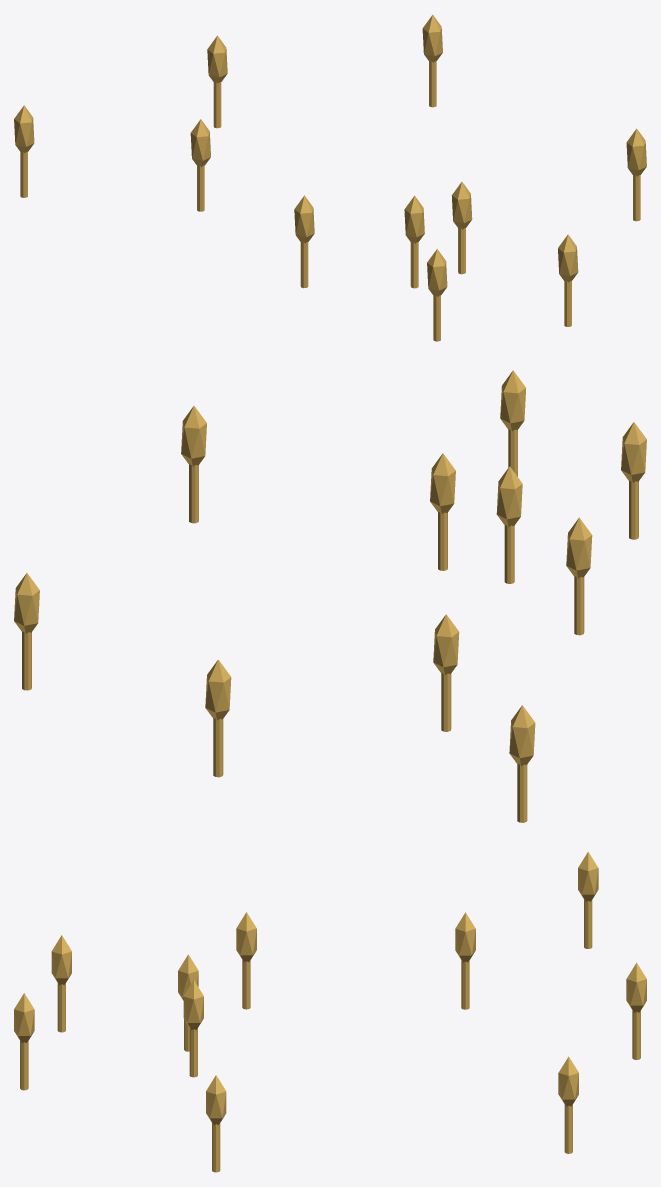
The model's file is barleyMeadow.glb.
3 renders of one model, top to bottom at view 1: azimuth 30°, elevation 25°; view 2: azimuth 150°, elevation 25°; view 3: azimuth 270°, elevation 25°, orthographic. The views are drawn at different scales.
Visible parts, largest first — view 1: Icosphere.016, Icosphere.018, Icosphere.019, Icosphere.017, Icosphere.021, Icosphere.022, Icosphere.014, Icosphere.020, Icosphere.015, Icosphere.023; view 2: Icosphere.021, Icosphere.016, Icosphere.022, Icosphere.014, Icosphere.015, Icosphere.018, Icosphere.019, Icosphere.020, Icosphere.023, Icosphere.017, Cone.004, Cone.008 (+3 smaller); view 3: Icosphere.016, Icosphere.018, Icosphere.019, Icosphere.020, Icosphere.022, Icosphere.015, Icosphere.021, Icosphere.023, Icosphere.014, Icosphere.017.
Boxes of the visible parts, bbox=[...] form: Icosphere.016: bbox=[422, 14, 442, 62]; Icosphere.018: bbox=[294, 195, 314, 243]; Icosphere.019: bbox=[626, 128, 646, 176]; Icosphere.017: bbox=[404, 195, 424, 243]; Icosphere.021: bbox=[207, 35, 227, 83]; Icosphere.022: bbox=[427, 249, 447, 296]; Icosphere.014: bbox=[14, 105, 34, 152]; Icosphere.020: bbox=[558, 234, 578, 282]; Icosphere.015: bbox=[451, 182, 472, 229]; Icosphere.023: bbox=[190, 119, 210, 167]; Icosphere.021: bbox=[205, 659, 231, 720]; Icosphere.016: bbox=[14, 573, 39, 633]; Icosphere.022: bbox=[621, 422, 646, 482]; Icosphere.014: bbox=[509, 705, 535, 765]; Icosphere.015: bbox=[430, 453, 455, 513]; Icosphere.018: bbox=[566, 517, 592, 578]; Icosphere.019: bbox=[181, 406, 206, 466]; Icosphere.020: bbox=[500, 370, 525, 431]; Icosphere.023: bbox=[433, 614, 459, 675]; Icosphere.017: bbox=[496, 466, 522, 527]; Cone.004: bbox=[517, 764, 527, 822]; Cone.008: bbox=[574, 576, 584, 635]; Icosphere.016: bbox=[558, 1056, 578, 1106]; Icosphere.018: bbox=[236, 912, 256, 962]; Icosphere.019: bbox=[206, 1075, 226, 1125]; Icosphere.020: bbox=[14, 993, 34, 1042]; Icosphere.022: bbox=[51, 935, 71, 985]; Icosphere.015: bbox=[183, 980, 203, 1029]; Icosphere.021: bbox=[626, 962, 646, 1012]; Icosphere.023: bbox=[455, 912, 475, 962]; Icosphere.014: bbox=[578, 852, 598, 901]; Icosphere.017: bbox=[178, 954, 198, 1000].
Bounding box in the file's own units: 1.82 × 0.35 × 2.09.
